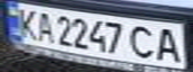2: (69, 15, 90, 51), (51, 12, 72, 47)
4: (87, 17, 109, 53)
7: (103, 19, 130, 55)
A: (151, 25, 187, 63), (30, 9, 57, 43)
C: (127, 22, 163, 61)
K: (12, 4, 42, 40)
